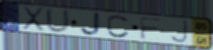C: (106, 13, 131, 39)
F: (138, 16, 165, 41)
J: (79, 12, 104, 37), (168, 19, 189, 44)
U: (44, 6, 73, 35)
X: (21, 5, 46, 33)
